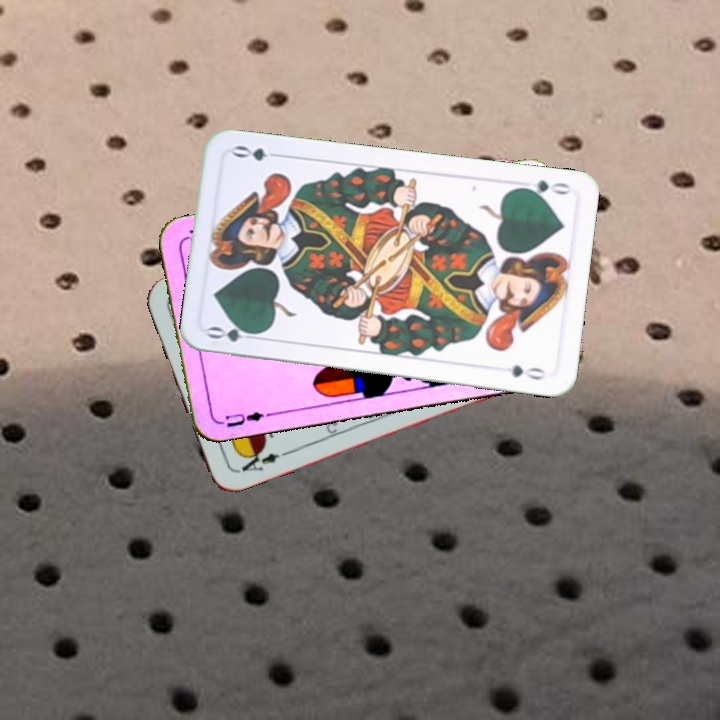EA: (232, 444, 290, 476)
EU: (214, 407, 273, 430)
GO: (514, 176, 573, 201), (204, 322, 264, 345)
